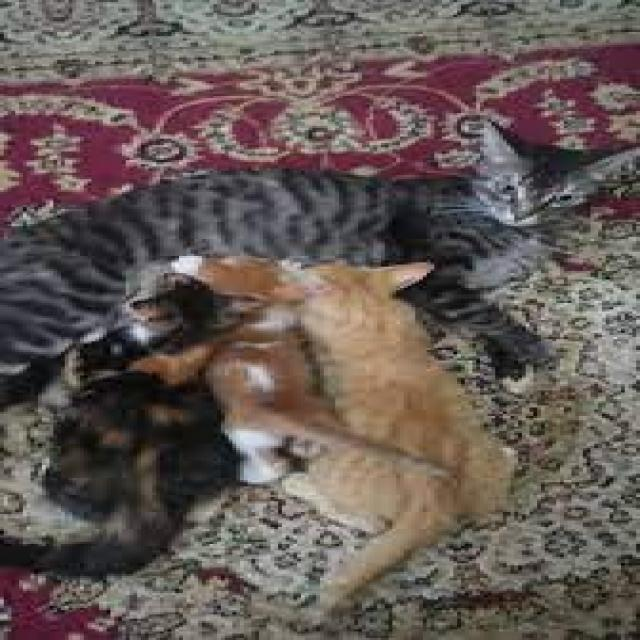cat: (67, 126, 619, 342), (171, 259, 413, 521), (51, 251, 257, 551), (289, 240, 492, 516)
